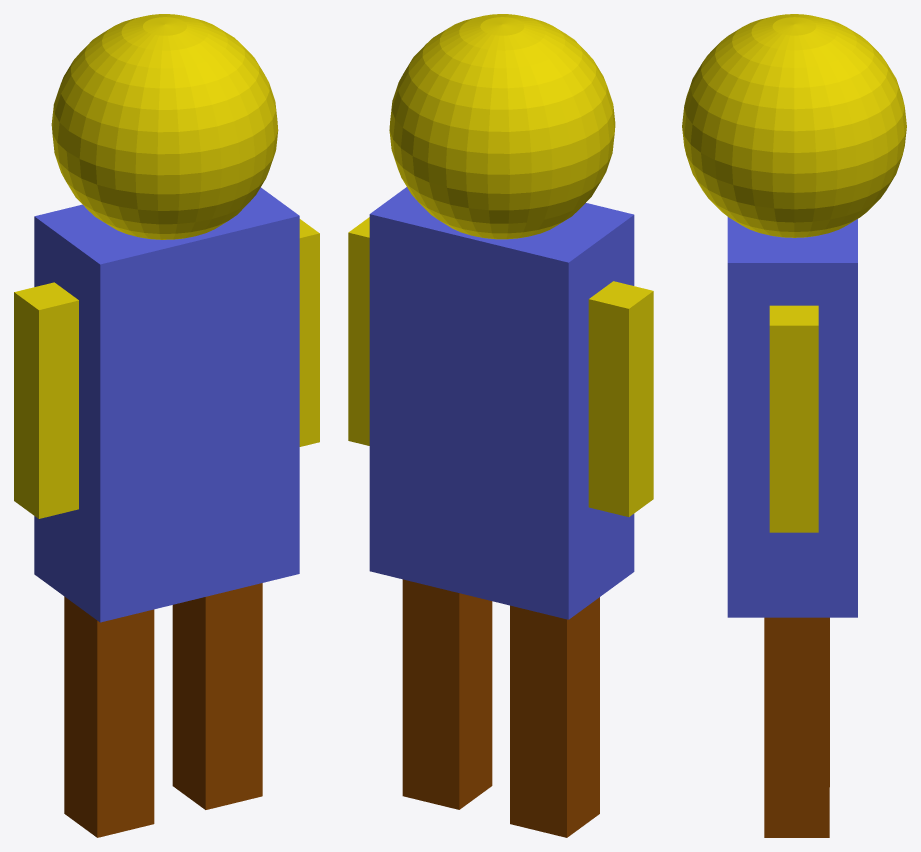
File: drew_model.fbx
The picture shows the model from 3 angles, left to right: view 1: azimuth 30°, elevation 25°; view 2: azimuth 150°, elevation 25°; view 3: azimuth 270°, elevation 25°; orthographic projection.
Parts seen in each view (by area): view 1: Cube, Sphere, Cube.003, Cube.002, Cube.004, Cube.001; view 2: Cube, Sphere, Cube.003, Cube.002, Cube.004, Cube.001; view 3: Cube, Sphere, Cube.002, Cube.001.
Boxes of the visible parts, x1=… form: Cube: x1=34, y1=187, x2=299, y2=622; Sphere: x1=51, y1=14, x2=278, y2=239; Cube.003: x1=64, y1=596, x2=154, y2=837; Cube.002: x1=172, y1=583, x2=262, y2=809; Cube.004: x1=14, y1=282, x2=78, y2=518; Cube.001: x1=299, y1=219, x2=319, y2=446; Cube: x1=369, y1=187, x2=634, y2=619; Sphere: x1=389, y1=14, x2=615, y2=239; Cube.003: x1=510, y1=597, x2=599, y2=837; Cube.002: x1=402, y1=579, x2=492, y2=809; Cube.004: x1=588, y1=281, x2=653, y2=516; Cube.001: x1=348, y1=217, x2=369, y2=445; Cube: x1=727, y1=217, x2=857, y2=617; Sphere: x1=682, y1=14, x2=906, y2=237; Cube.002: x1=764, y1=617, x2=829, y2=837; Cube.001: x1=769, y1=305, x2=818, y2=532.
Size of the model in its own units: 197 by 524 by 138.
